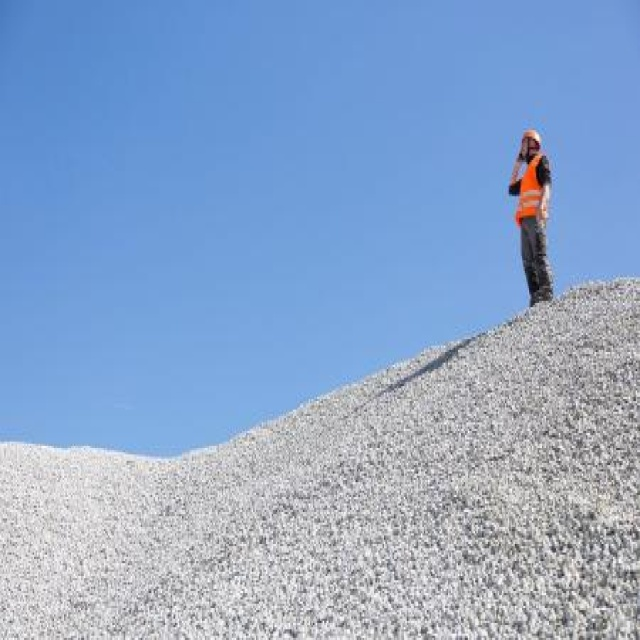Helmet: (513, 120, 546, 166)
Reflective vest: (511, 154, 554, 224)
